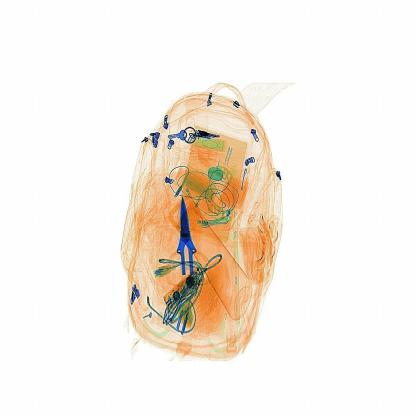gun: (164, 199, 216, 295)
